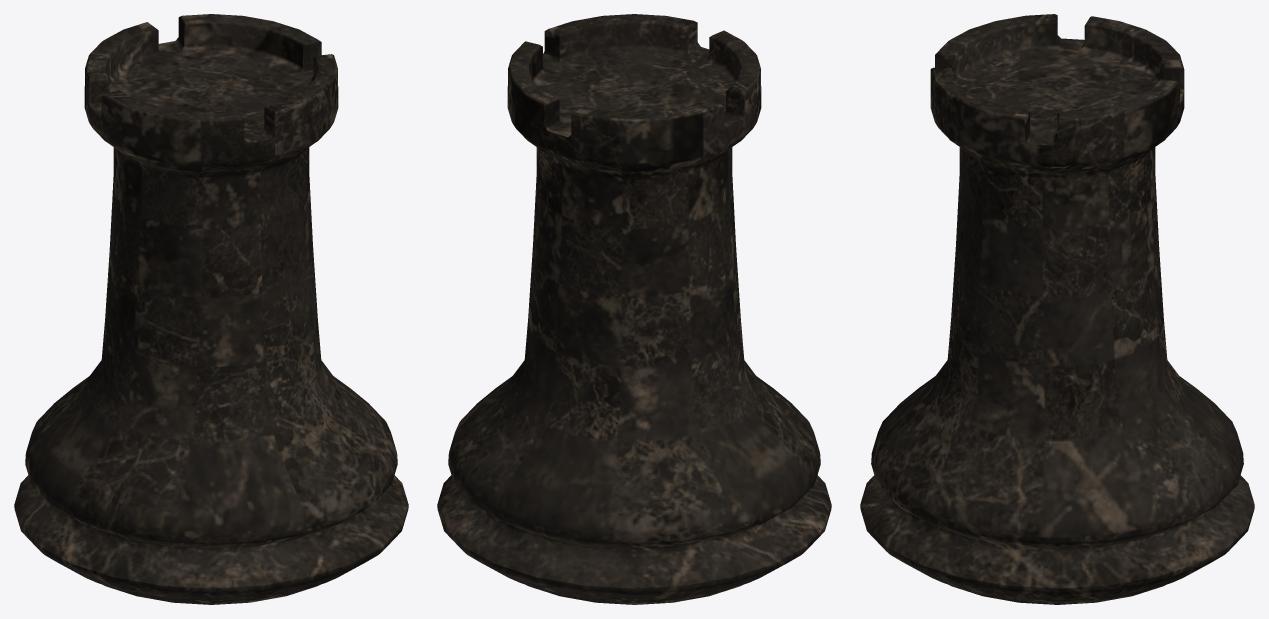
The model's file is mermer_r_b.glb.
3 renders of one model, left to right at view 1: azimuth 30°, elevation 25°; view 2: azimuth 150°, elevation 25°; view 3: azimuth 270°, elevation 25°, orthographic.
Parts seen in each view (by area): view 1: SM_Rook1; view 2: SM_Rook1; view 3: SM_Rook1.
Boxes of the visible parts, x1,y1,x2,y2 form: SM_Rook1: [14, 14, 408, 604]; SM_Rook1: [437, 14, 831, 604]; SM_Rook1: [860, 14, 1254, 604].
Bounding box in the file's own units: 4.06 × 5.37 × 4.04.
Materials: 1 (1 with a texture image).
